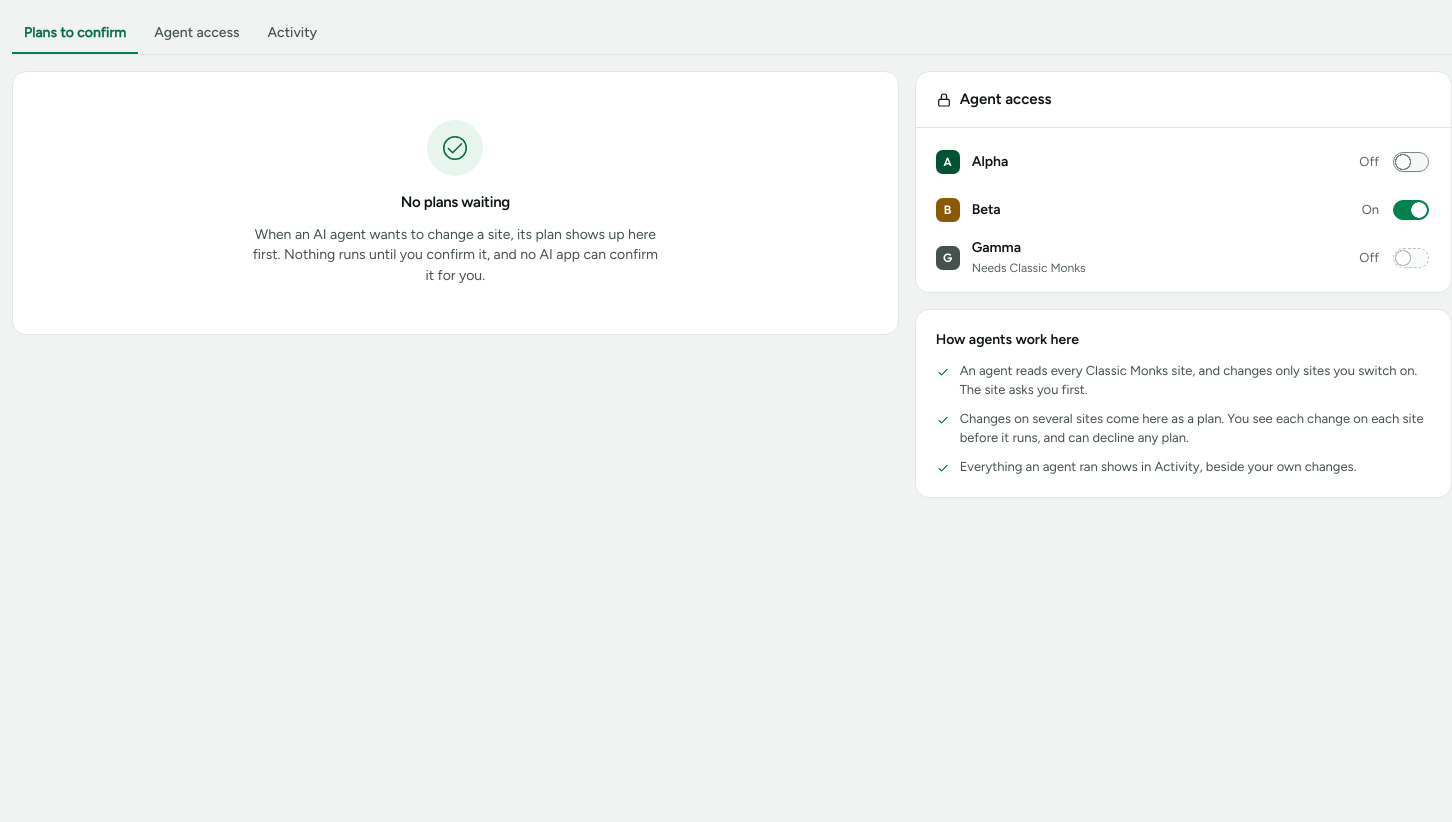
agent access per site: read only, on with approval, Basic mode needs Classic Monks
Click the tab "Agent access" at (197, 33), box [142,12,252,54]
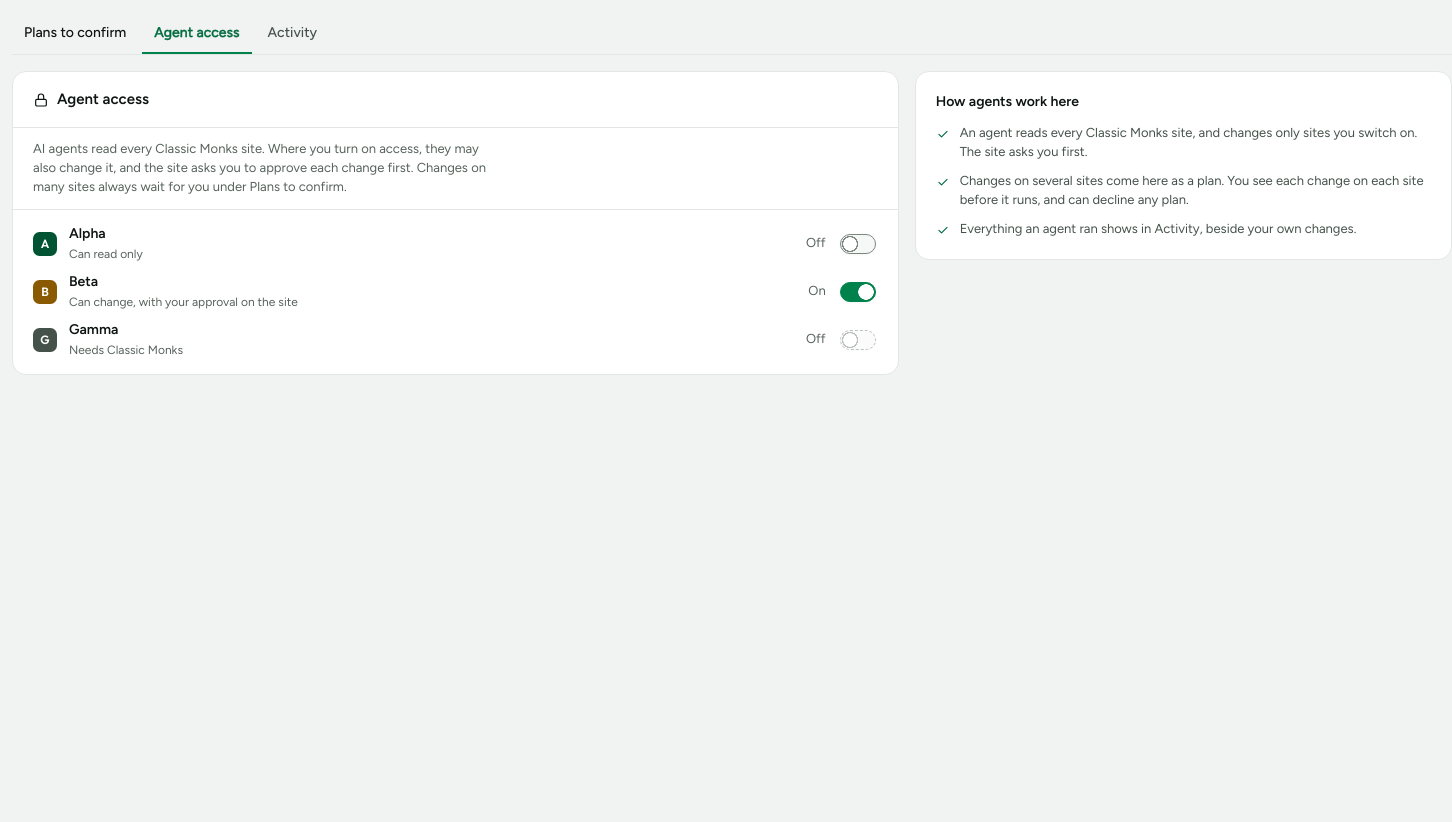
Expected: the switch labelled "Gamma Needs Classic Monks" is disabled, [840,330,876,350]
Click the switch named "Access for Alpha" at (858, 244), box [840,234,876,254]
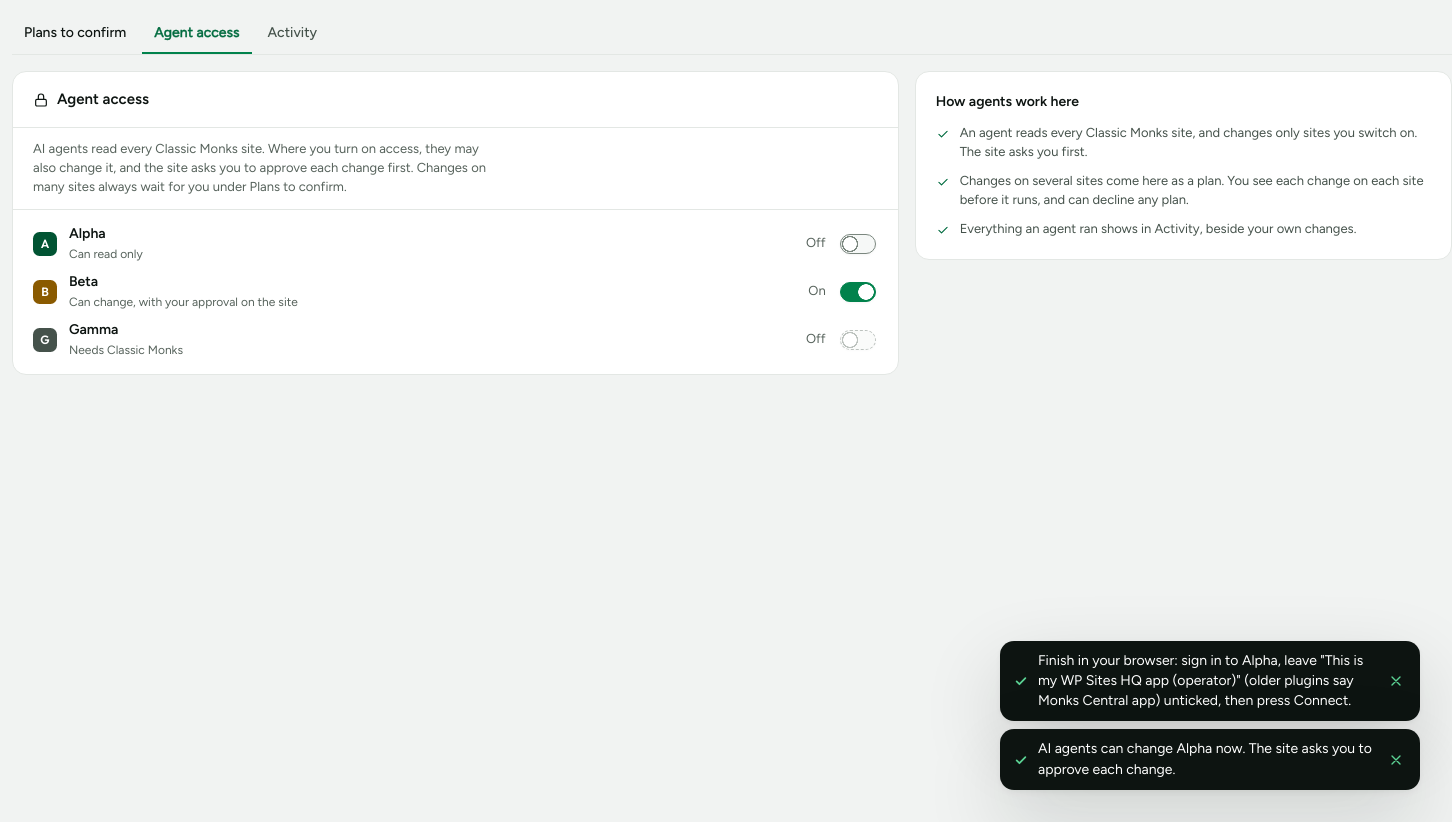
Expected: the text "leave \"This is my WP Sites HQ app (operator)\" (older plugins say Monks Central app) unticked" is shown, [1038,652,1363,709]
Expected: the text "AI agents can change Alpha now. The site asks you to approve each change." is shown, [1038,739,1372,780]
Click the switch named "Access for Beta" at (858, 292), box [840,282,876,302]
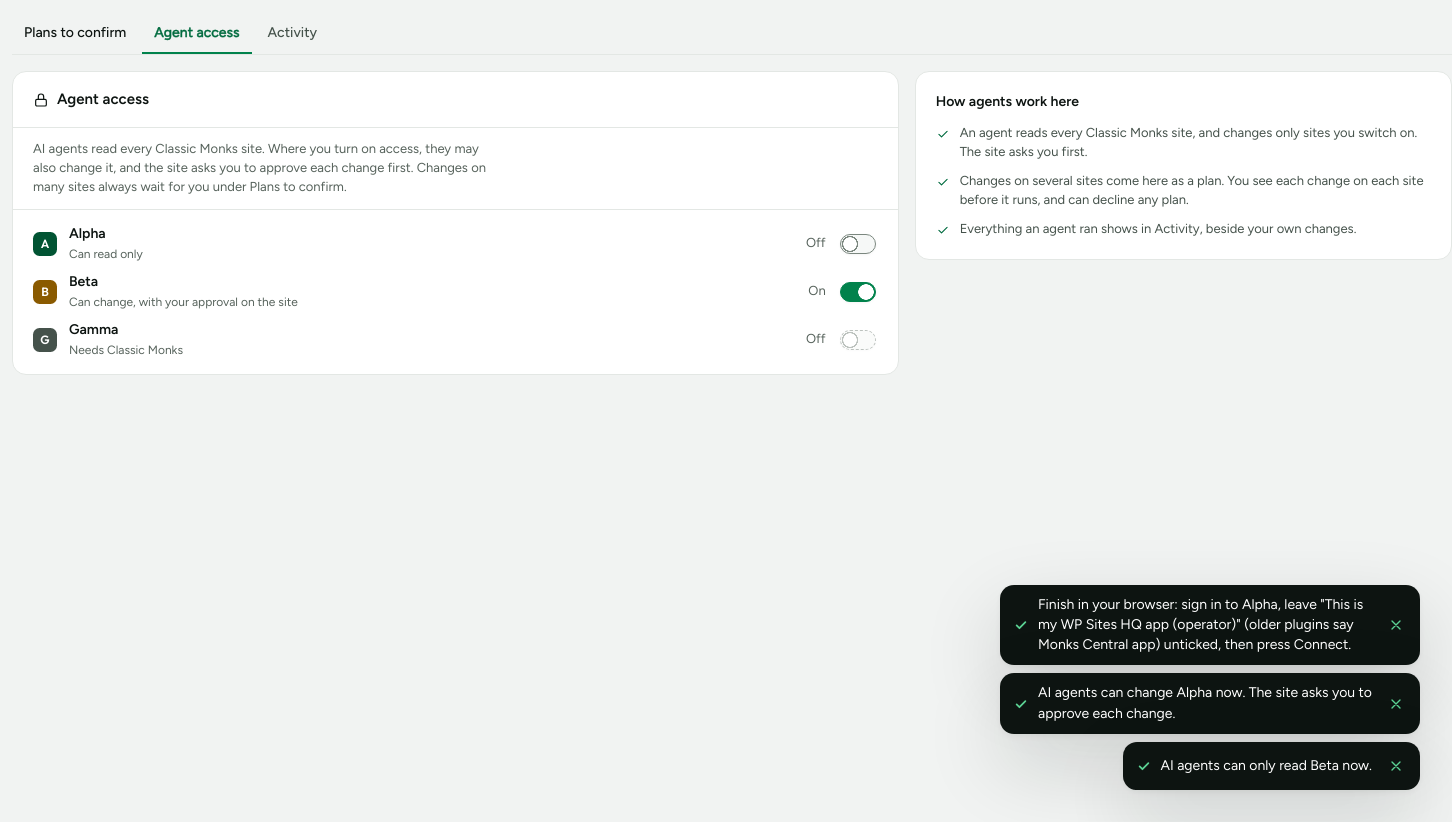
Expected: the text "AI agents can only read Beta now." is shown, [1160,756,1372,776]
